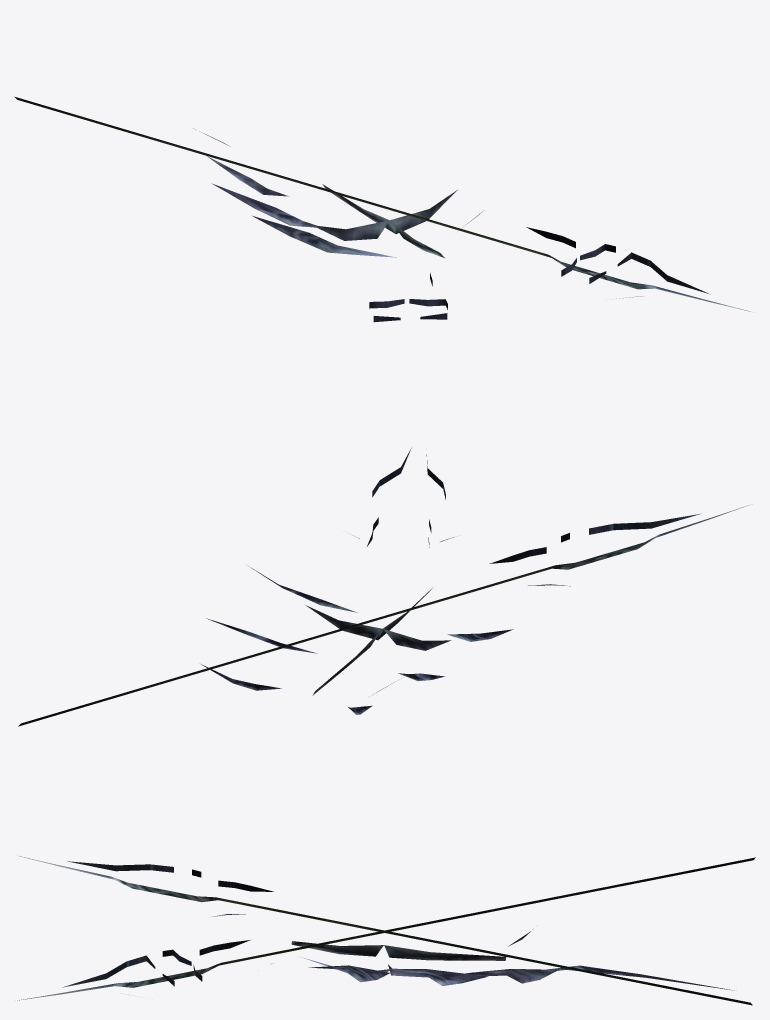
3 views of the same model, one above another, from view 1: azimuth 30°, elevation 25°; view 2: azimuth 150°, elevation 25°; view 3: azimuth 270°, elevation 25° (orthographic). The views are drawn at different scales.
Visible parts, largest first — view 1: model_Object96; view 2: model_Object96; view 3: model_Object96.
Part boxes in pixels (<box>): model_Object96: <box>14,96,749,322</box>; model_Object96: <box>18,447,748,726</box>; model_Object96: <box>17,856,755,1005</box>.
Bounding box in the file's own units: 1.71 × 0.4041 × 3.55.
Materials: 1 (1 with a texture image).
